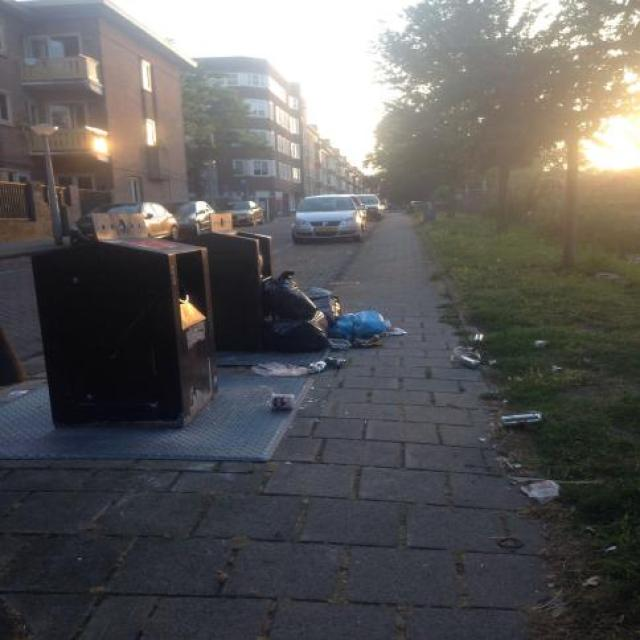Anorganik: (265, 278, 334, 356)
